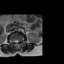CCS_normal: (15, 38, 17, 45)
LFS_stenosis: (19, 37, 20, 43)
LLS_normal: (17, 38, 19, 44)
RFS_stenosis: (12, 38, 14, 44)
RLS_normal: (14, 38, 15, 44)
